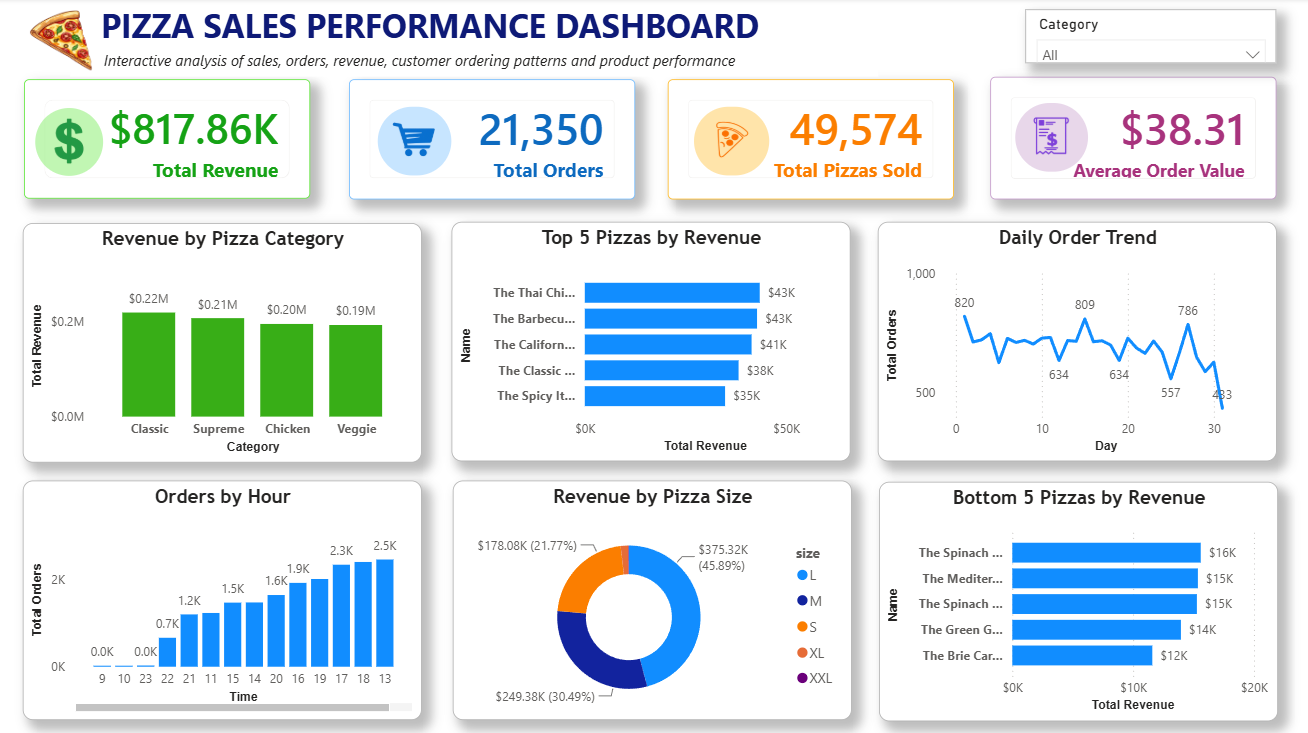

This screenshot's page, from the dashboard's own definition file:
{"tool":"powerbi","page":{"name":"Pizza Sales Dashboard","canvas":[1280,720],"ordinal":0},"visuals":[{"type":"cardVisual","fields":{"Data":["order_details.Total Revenue","select"]},"box":[24.3,80,280,117.1],"z":0},{"type":"cardVisual","fields":{"Data":["order_details.Total Pizzas Sold"]},"box":[654.3,80,280,117.4],"z":1000},{"type":"cardVisual","fields":{"Data":["order_details.Total Orders"]},"box":[342.4,79.5,280,117.4],"z":2000},{"type":"cardVisual","fields":{"Data":["order_details.Average Order Value"]},"box":[969.7,77,280,120],"z":3000},{"type":"clusteredColumnChart","title":"Revenue by  Pizza Category","fields":{"Y":["order_details.Total Revenue"],"Category":["pizza_types.category"]},"box":[23.2,220.1,390,234],"z":4000},{"type":"clusteredBarChart","title":"Top 5 Pizzas by Revenue","fields":{"Category":["pizza_types.name"],"Y":["order_details.Total Revenue"]},"box":[442.7,218.9,390,234.8],"z":5000},{"type":"lineChart","title":"Daily Order Trend","fields":{"Y":["order_details.Total Orders"],"Category":["orders.date.Variation.Date Hierarchy.Day"]},"box":[859.7,218.9,390,234.8],"z":6000},{"type":"clusteredColumnChart","title":"Orders by Hour","fields":{"Y":["order_details.Total Orders"],"Category":["orders.Hour"]},"box":[23.2,472,390,234.8],"z":7000},{"type":"donutChart","title":"Revenue by Pizza Size","fields":{"Category":["pizzas.size"],"Y":["order_details.Total Revenue"]},"box":[443.9,472,390,234.8],"z":8000},{"type":"slicer","fields":{"Values":["pizza_types.category"]},"box":[1004.3,11.4,245.7,52.9],"z":9000},{"type":"clusteredBarChart","title":"Bottom 5 Pizzas by Revenue","fields":{"Category":["pizza_types.name"],"Y":["order_details.Total Revenue"]},"box":[860.9,473.2,390,234],"z":10000},{"type":"textbox","box":[70,0,790,77.1],"z":11000},{"type":"image","box":[24.5,7.3,77,69.7],"z":12000},{"type":"image","box":[35.5,107.6,66,66],"z":13000},{"type":"image","box":[370.5,106.4,72.1,67.3],"z":14000},{"type":"image","box":[679.9,106.4,73.4,67.3],"z":15000},{"type":"image","box":[994.2,102.7,70.9,67.3],"z":16000}]}

Visuals, with their boxes in screenshot pixels (x1, y1, x2, y2), scaled from the page's 1280x720 canvas onto the 1308x733 screenshot:
cardVisual - order_details.Total Revenue x select: x1=25 y1=81 x2=311 y2=201
cardVisual - order_details.Total Pizzas Sold: x1=669 y1=81 x2=955 y2=201
cardVisual - order_details.Total Orders: x1=350 y1=81 x2=636 y2=200
cardVisual - order_details.Average Order Value: x1=991 y1=78 x2=1277 y2=201
"Revenue by  Pizza Category" clusteredColumnChart: x1=24 y1=224 x2=422 y2=462
"Top 5 Pizzas by Revenue" clusteredBarChart: x1=452 y1=223 x2=851 y2=462
"Daily Order Trend" lineChart: x1=879 y1=223 x2=1277 y2=462
"Orders by Hour" clusteredColumnChart: x1=24 y1=481 x2=422 y2=720
"Revenue by Pizza Size" donutChart: x1=454 y1=481 x2=852 y2=720
slicer - pizza_types.category: x1=1026 y1=12 x2=1277 y2=65
"Bottom 5 Pizzas by Revenue" clusteredBarChart: x1=880 y1=482 x2=1278 y2=720
textbox: x1=72 y1=0 x2=879 y2=78
image: x1=25 y1=7 x2=104 y2=78
image: x1=36 y1=110 x2=104 y2=177
image: x1=379 y1=108 x2=452 y2=177
image: x1=695 y1=108 x2=770 y2=177
image: x1=1016 y1=105 x2=1088 y2=173
